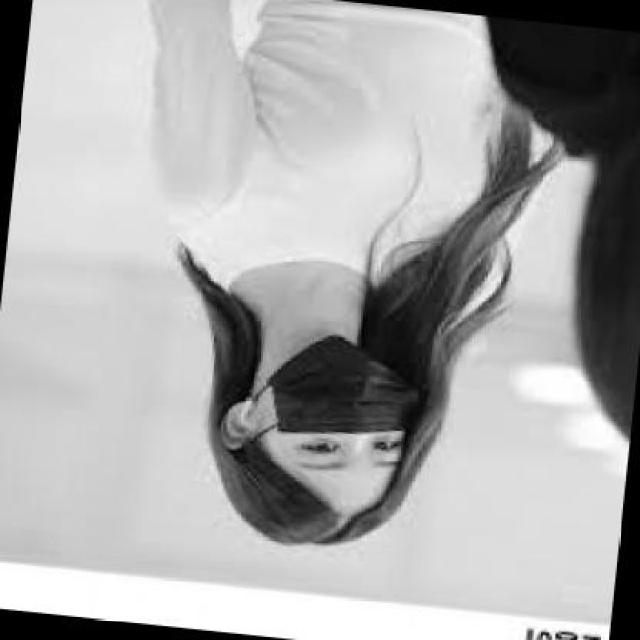earphone: (228, 386, 268, 436)
